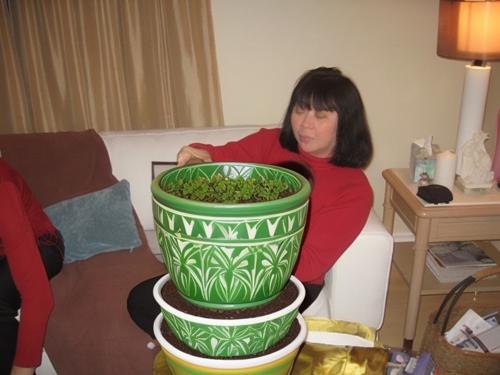person: (127, 67, 375, 375)
person/hand: (175, 146, 212, 180)
person/head: (291, 69, 349, 153)
pottedplant: (151, 161, 310, 374)
sofa: (3, 125, 391, 373)
